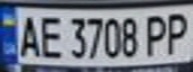0: (103, 14, 124, 58)
3: (63, 13, 87, 60)
7: (84, 13, 106, 60)
8: (118, 14, 142, 58)
A: (12, 11, 42, 58)
E: (33, 11, 63, 60)
P: (160, 8, 193, 56), (142, 11, 172, 57)
